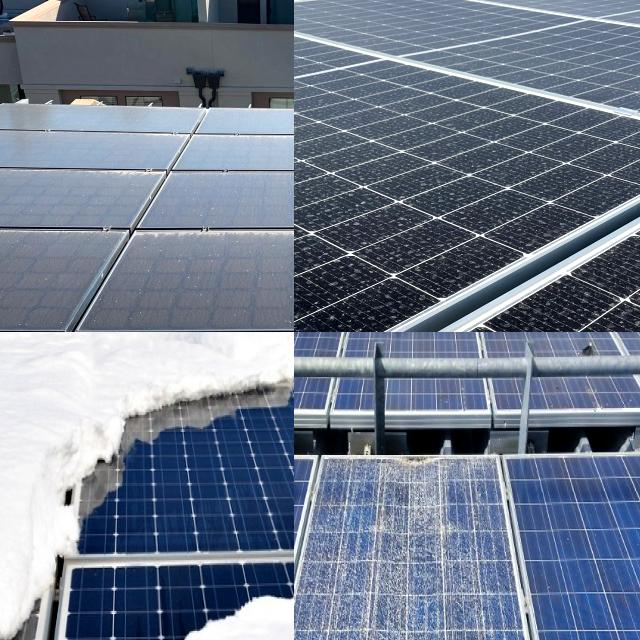dust: (401, 115, 510, 258), (294, 90, 394, 244), (125, 243, 294, 323), (0, 236, 65, 325), (294, 265, 386, 327), (183, 173, 294, 219), (0, 173, 111, 212)
panel: (0, 429, 104, 640), (66, 560, 294, 640), (103, 332, 294, 410), (0, 332, 79, 354)
